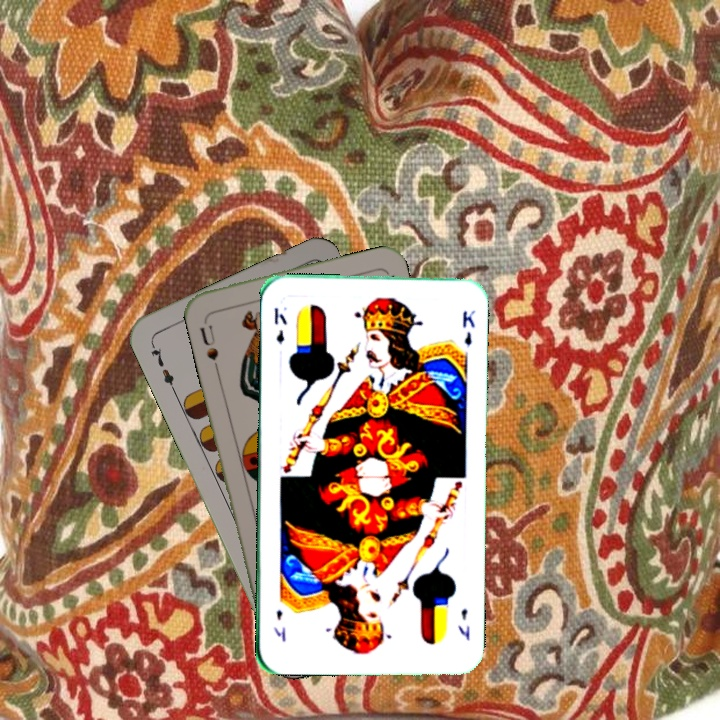E7: (146, 338, 178, 394)
EK: (270, 304, 290, 346), (454, 604, 472, 643)
SU: (196, 313, 221, 372)
